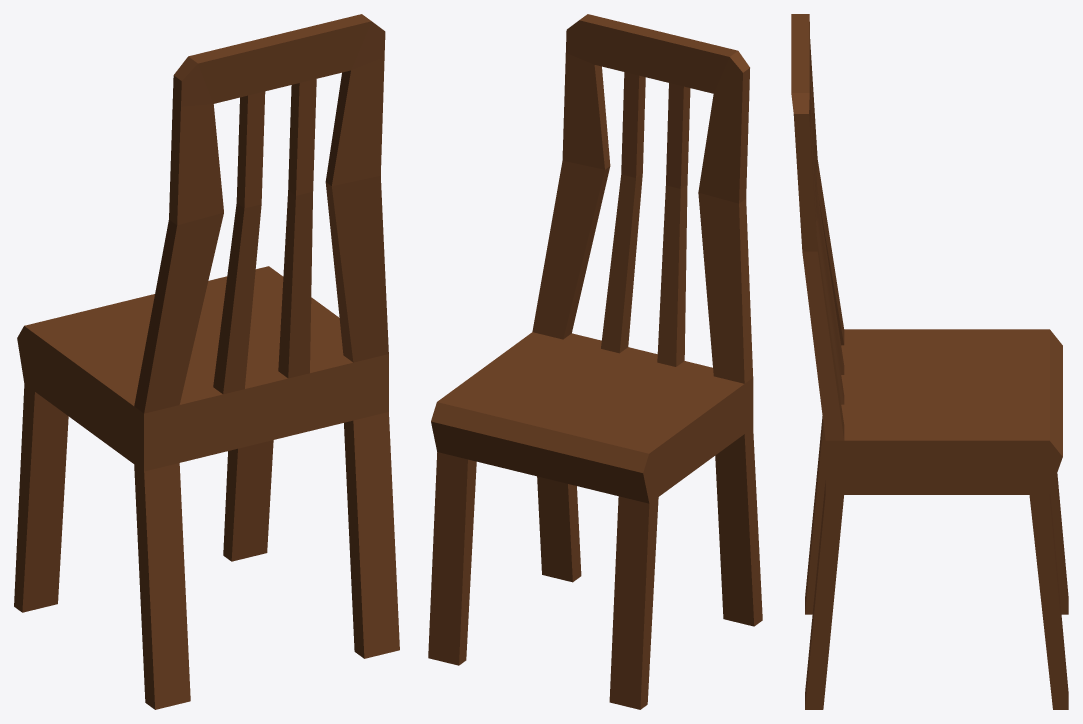
The model's file is Seat_Wood_FBX.fbx.
The picture shows the model from 3 angles, left to right: view 1: azimuth 30°, elevation 25°; view 2: azimuth 150°, elevation 25°; view 3: azimuth 270°, elevation 25°; orthographic projection. The views are drawn at different scales.
Parts seen in each view (by area): view 1: Chair 4; view 2: Chair 4; view 3: Chair 4.
Part boxes in pixels (box(x1,y1,x2,y2)): Chair 4: box(14, 14, 399, 709); Chair 4: box(428, 14, 762, 709); Chair 4: box(791, 14, 1068, 709).
Bounding box in the file's own units: 55.02 × 138 × 57.82.
